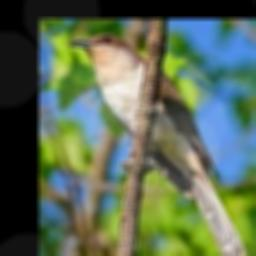Cuckoo: (71, 34, 248, 256)
